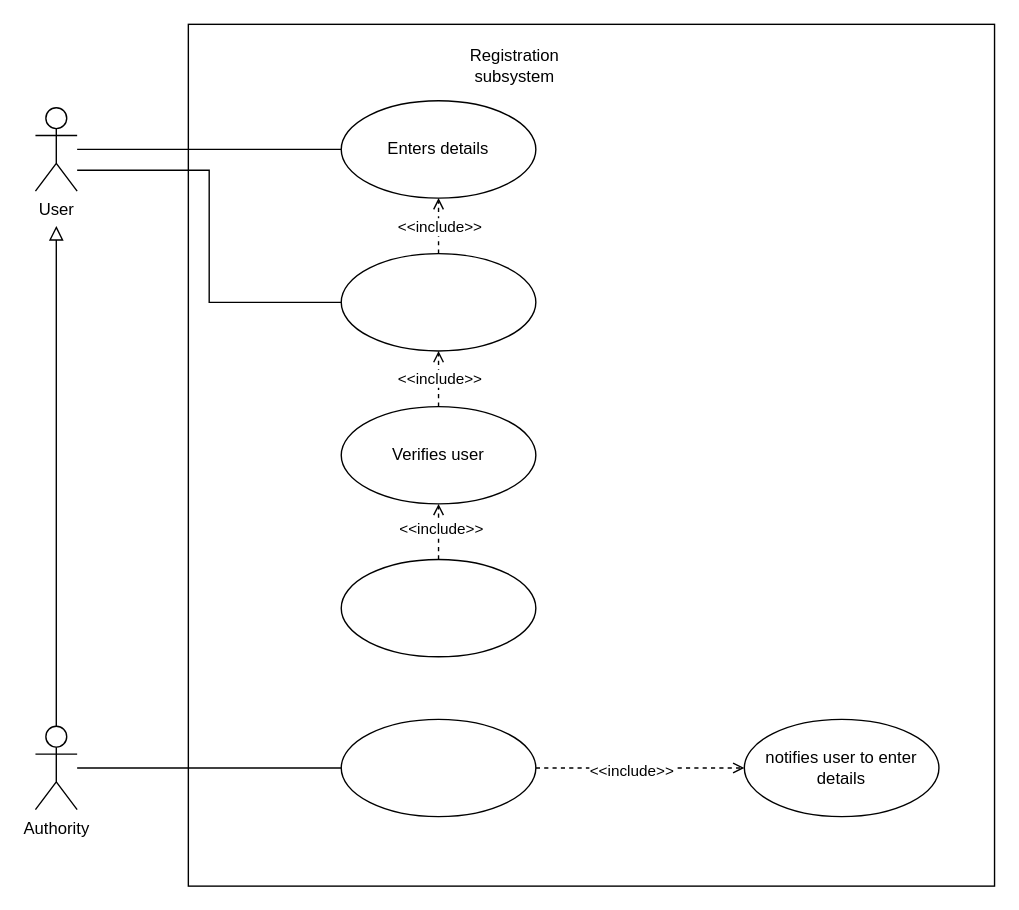
This 1019x910 diagram has some shape labels left out. Each missing label, with the centre of its shape:
"Adds new authority user" belongs at pixel 438 767.
"Enters password twice" belongs at pixel 438 301.
"Use Case" belongs at pixel 438 607.
